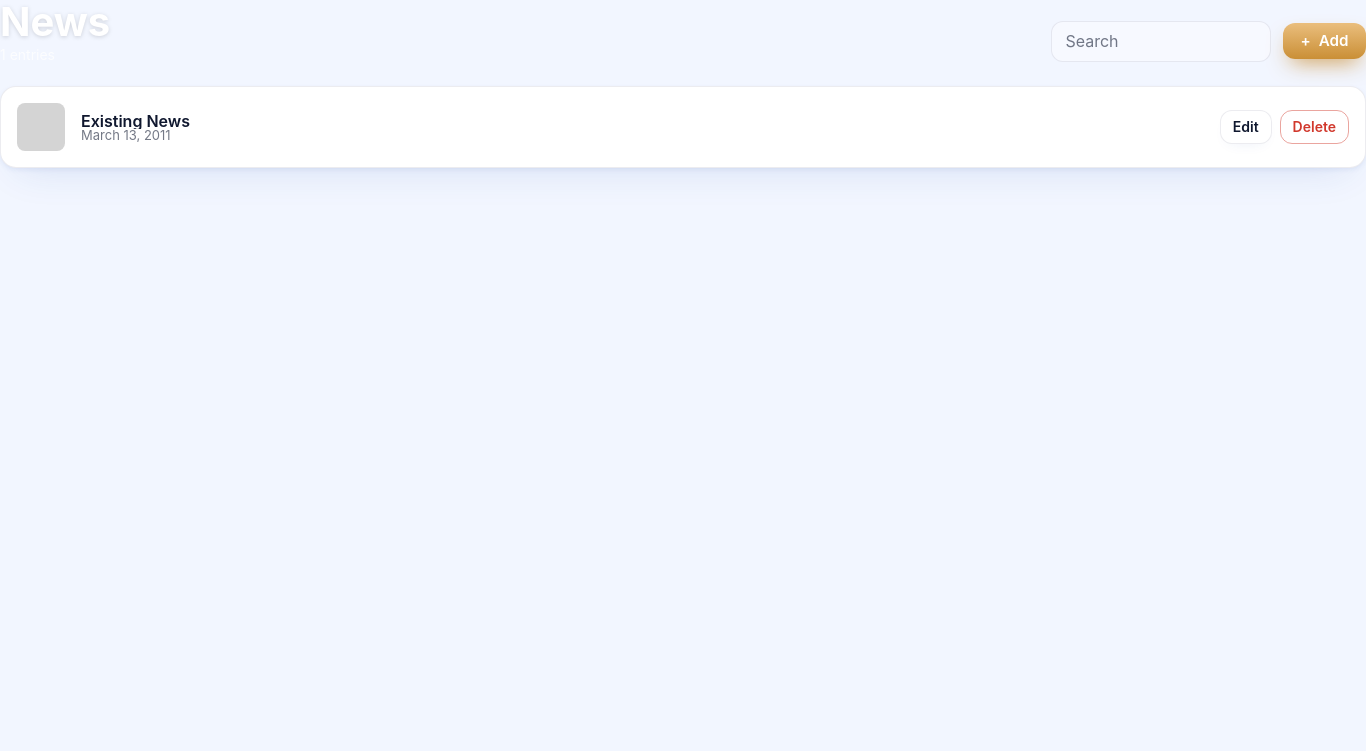
Test: NewsEditor CRUD contract › labels every field with a human-readable name
This screenshot has width=1366, height=751.
Click the button "+ Add".
click(1324, 41)  # box [1283, 24, 1365, 59]
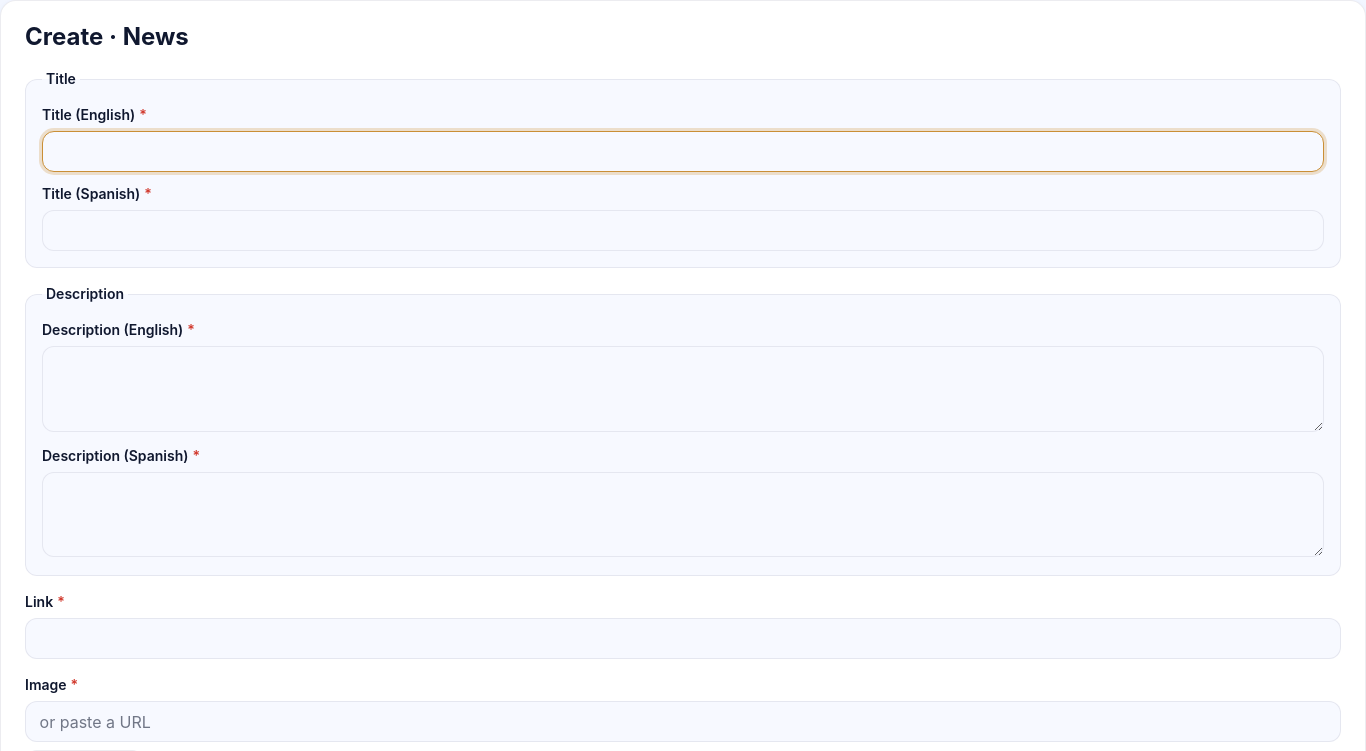
Expected: the field labelled "Title (English)*" is shown, [42, 131, 1324, 172]
